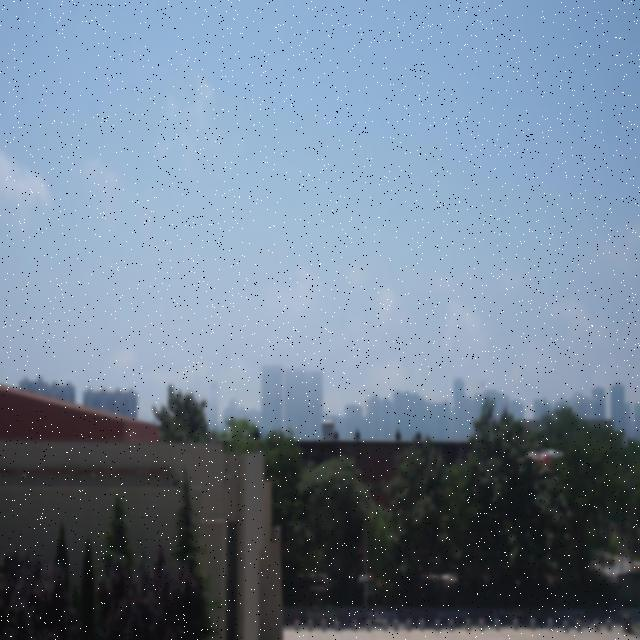UAV: (526, 449, 564, 473)
